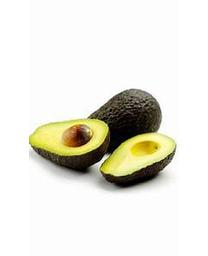avocado: (86, 89, 163, 155), (28, 118, 111, 171), (100, 132, 178, 188)
